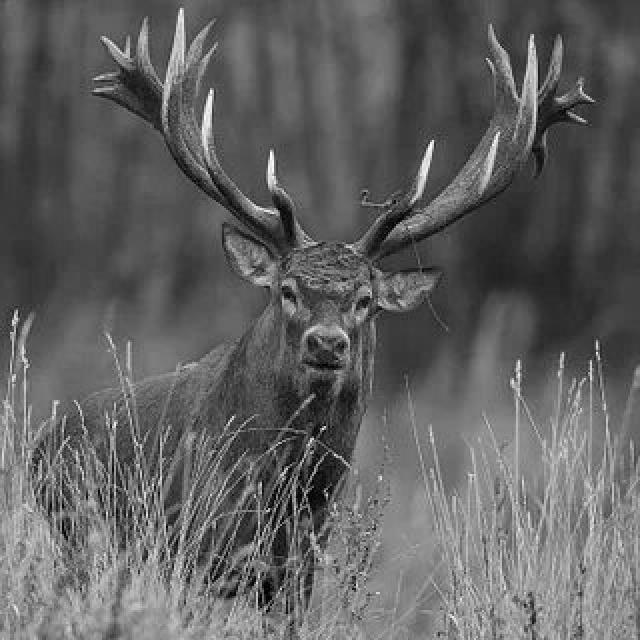Deer: (12, 49, 588, 515)
